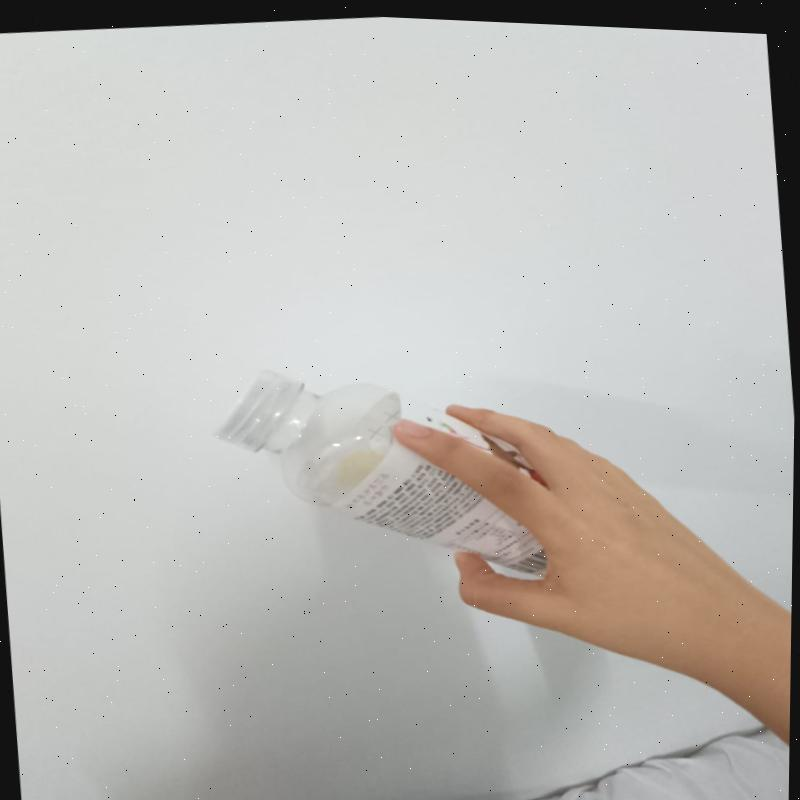botella: (207, 342, 546, 597)
